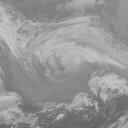cyclone: (23, 25, 101, 102)
